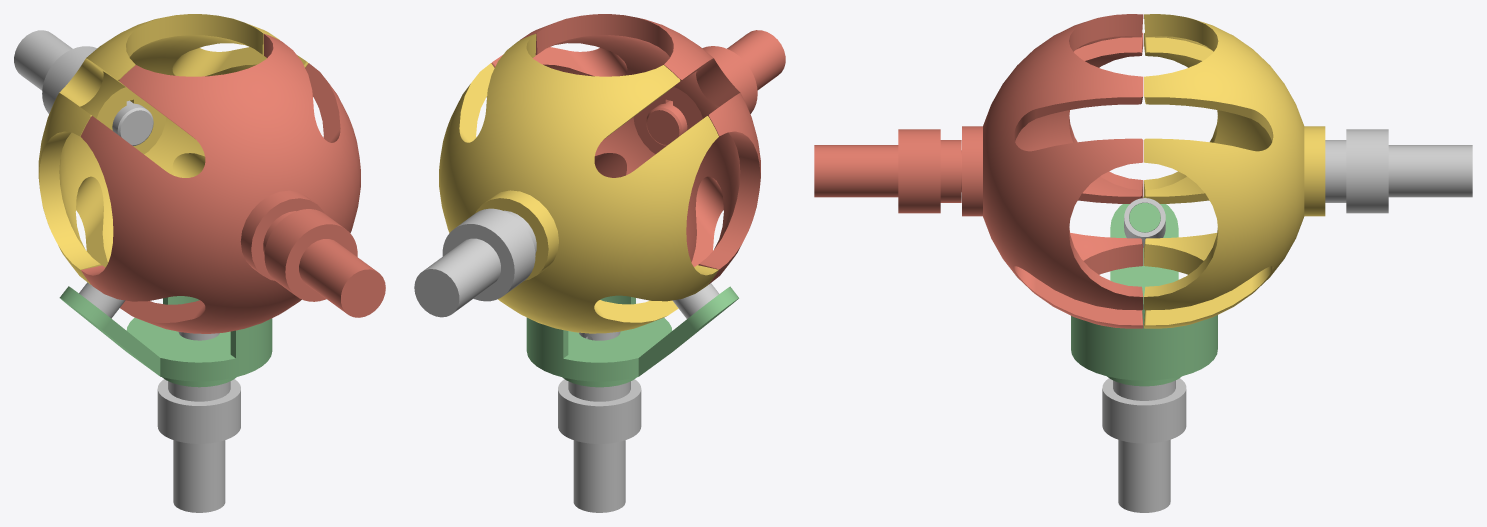
File: mecanismo.glb
3 views of the same model, side by side, from view 1: azimuth 30°, elevation 25°; view 2: azimuth 150°, elevation 25°; view 3: azimuth 270°, elevation 25° (orthographic).
Parts seen in each view (by area): view 1: Spherical Geneva Mechanism; view 2: Spherical Geneva Mechanism; view 3: Spherical Geneva Mechanism.
Boxes of the visible parts, left/top/right/bottom form: Spherical Geneva Mechanism: left=14, top=14, right=385, bottom=512; Spherical Geneva Mechanism: left=414, top=14, right=785, bottom=512; Spherical Geneva Mechanism: left=814, top=14, right=1472, bottom=512.
Bounding box in the file's own units: 14.24 × 24.19 × 31.32.
